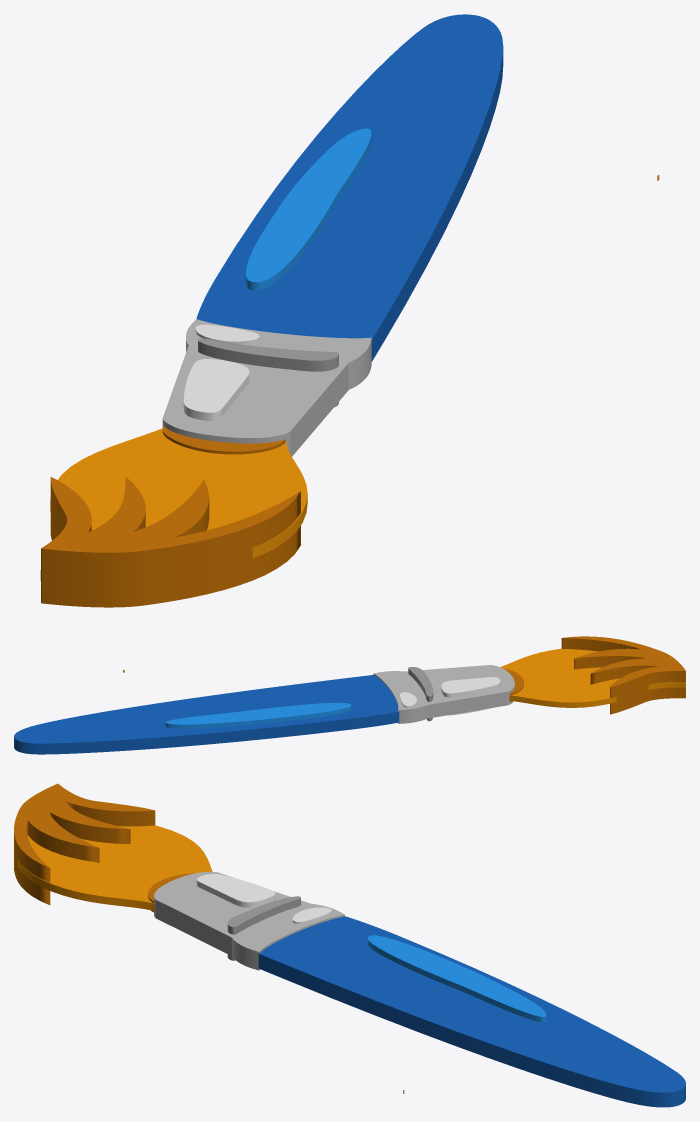
Rendered from emoji_u1f58c.glb.
3 renders of one model, top to bottom at view 1: azimuth 30°, elevation 25°; view 2: azimuth 150°, elevation 25°; view 3: azimuth 270°, elevation 25°, orthographic. The views are drawn at different scales.
Visible parts, largest first — view 1: emoji_u1f58c; view 2: emoji_u1f58c; view 3: emoji_u1f58c.
Boxes of the visible parts, box(x1,y1,x2,y2) form: emoji_u1f58c: box(40, 14, 659, 607); emoji_u1f58c: box(14, 636, 685, 754); emoji_u1f58c: box(14, 783, 685, 1107).
Size of the model in its own units: 0.0342 by 0.002 by 0.0326.
